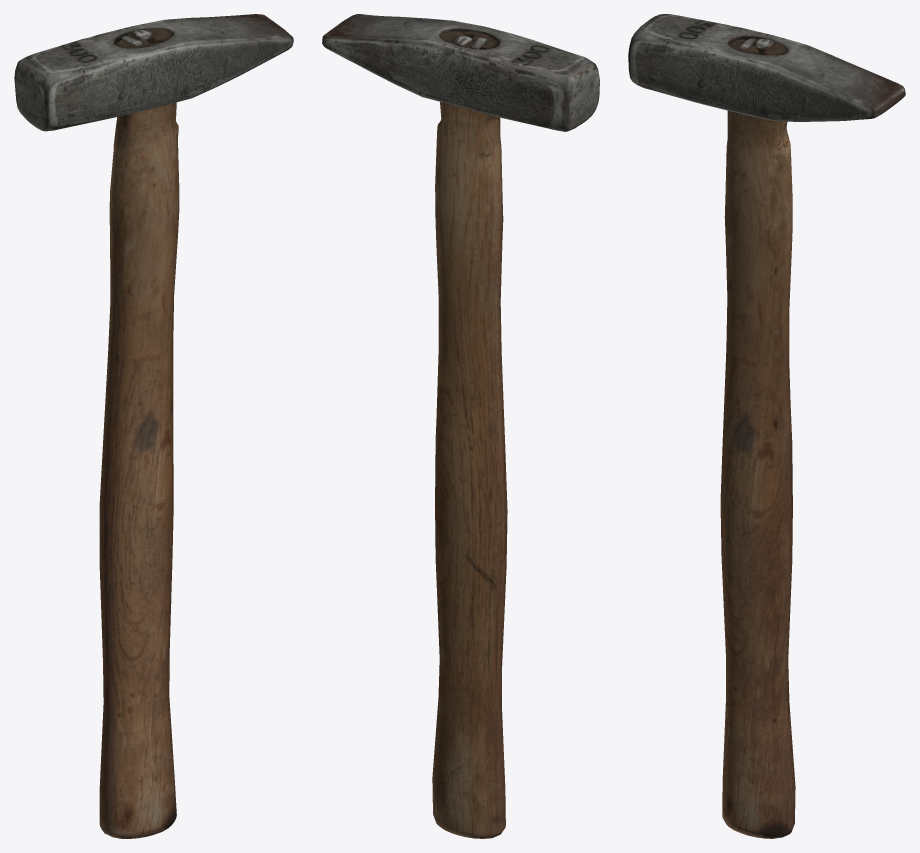
The model's file is cross_pein_hammer_2k.fbx.
3 renders of one model, left to right at view 1: azimuth 30°, elevation 25°; view 2: azimuth 150°, elevation 25°; view 3: azimuth 330°, elevation 25°, orthographic.
Parts seen in each view (by area): view 1: cross_pein_hammer; view 2: cross_pein_hammer; view 3: cross_pein_hammer.
Part boxes in pixels (x1,y1,x2,y2): cross_pein_hammer: [14, 14, 293, 838]; cross_pein_hammer: [322, 14, 599, 838]; cross_pein_hammer: [628, 14, 905, 838].
Size of the model in its own units: 9.91 by 30.02 by 2.43.
